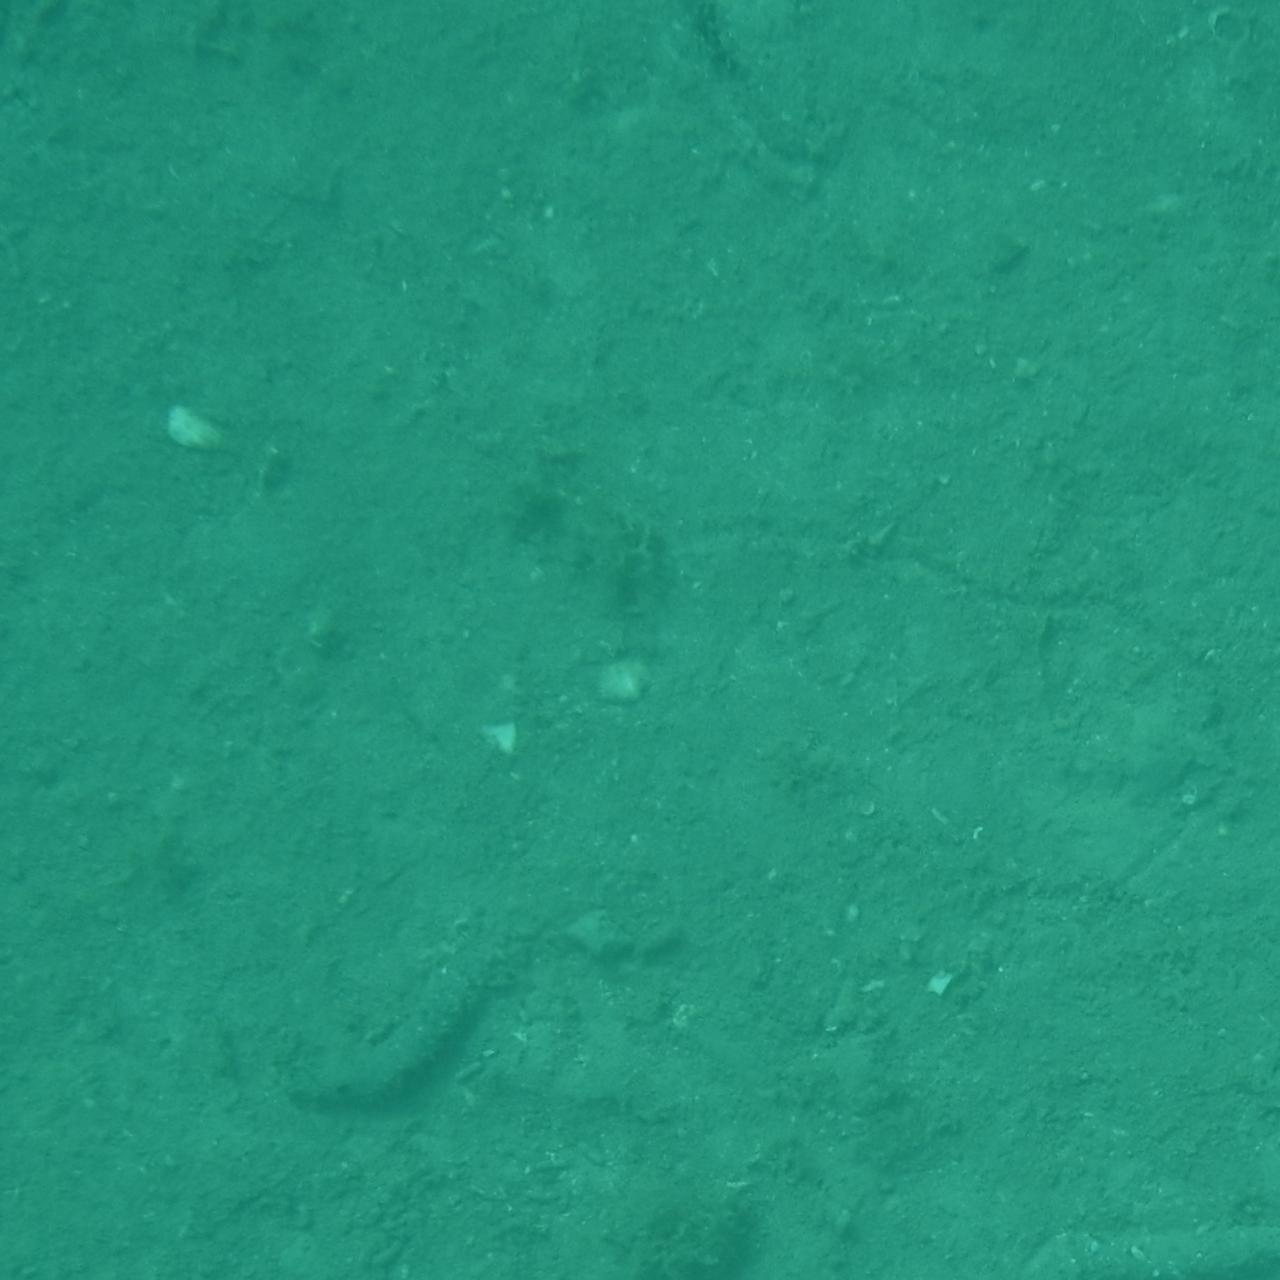Holothuria tubulosa: (279, 947, 510, 1135), (1175, 888, 1280, 1123), (0, 513, 191, 619), (1002, 1216, 1280, 1280), (1200, 1141, 1280, 1280), (0, 0, 66, 159)
